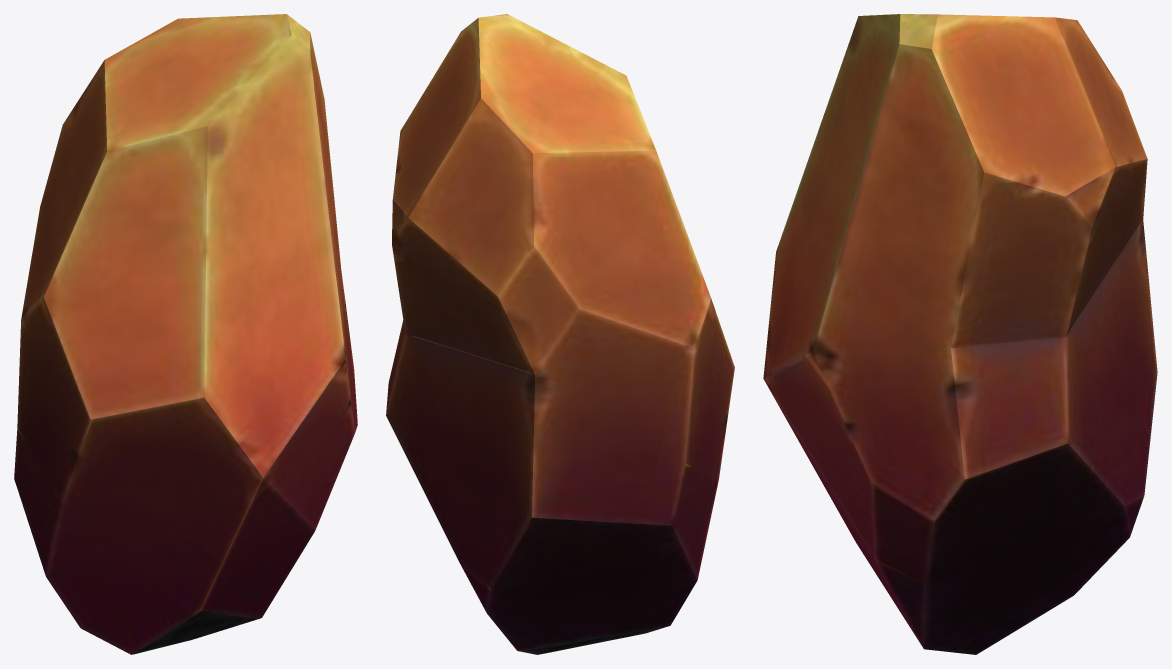
The model's file is rock-large-4.glb.
The picture shows the model from 3 angles, left to right: view 1: azimuth 30°, elevation 25°; view 2: azimuth 150°, elevation 25°; view 3: azimuth 270°, elevation 25°; orthographic projection. The views are drawn at different scales.
Visible parts, largest first — view 1: L_Rock_05_4; view 2: L_Rock_05_4; view 3: L_Rock_05_4.
Boxes of the visible parts, box(x1,y1,x2,y2) form: L_Rock_05_4: box(14, 14, 357, 654); L_Rock_05_4: box(386, 14, 734, 654); L_Rock_05_4: box(763, 14, 1157, 654).
Bounding box in the file's own units: 1.39 × 2.54 × 1.33.
1 material, 1 textured.
